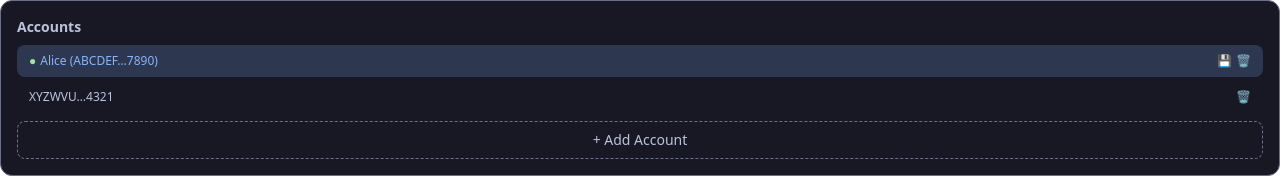
it: AccountSwitcher › shows delete confirmation on trash click
Click the 1st button titled "Delete account" at (1244, 61), box [1236, 53, 1251, 69]
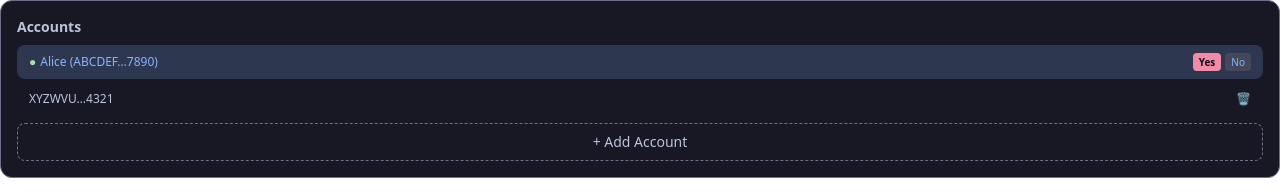
Now the button "Yes" is shown, box [1193, 53, 1221, 71]
Now the button "No" is shown, box [1225, 53, 1251, 71]
